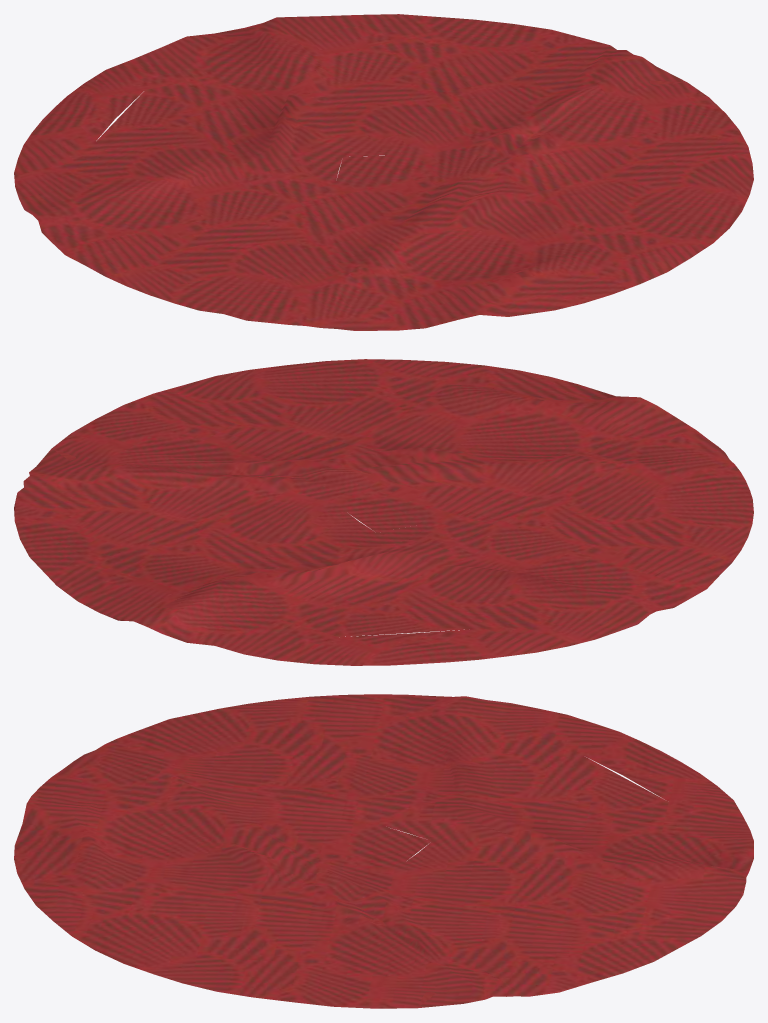
The model's file is Carpet0026.obj.
3 renders of one model, top to bottom at view 1: azimuth 30°, elevation 25°; view 2: azimuth 150°, elevation 25°; view 3: azimuth 270°, elevation 25°, orthographic.
Bounding box in the file's own units: 2.11 × 0.045 × 2.09.
Materials: 1 (1 with a texture image).
